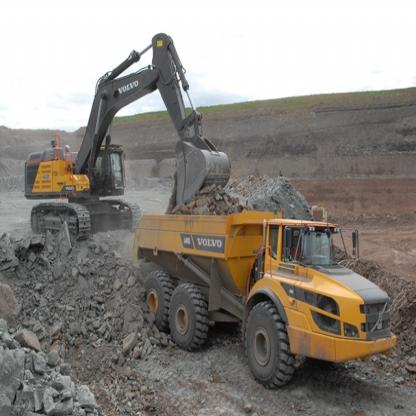dump_truck: (125, 197, 400, 387)
excavator: (15, 22, 231, 240)
